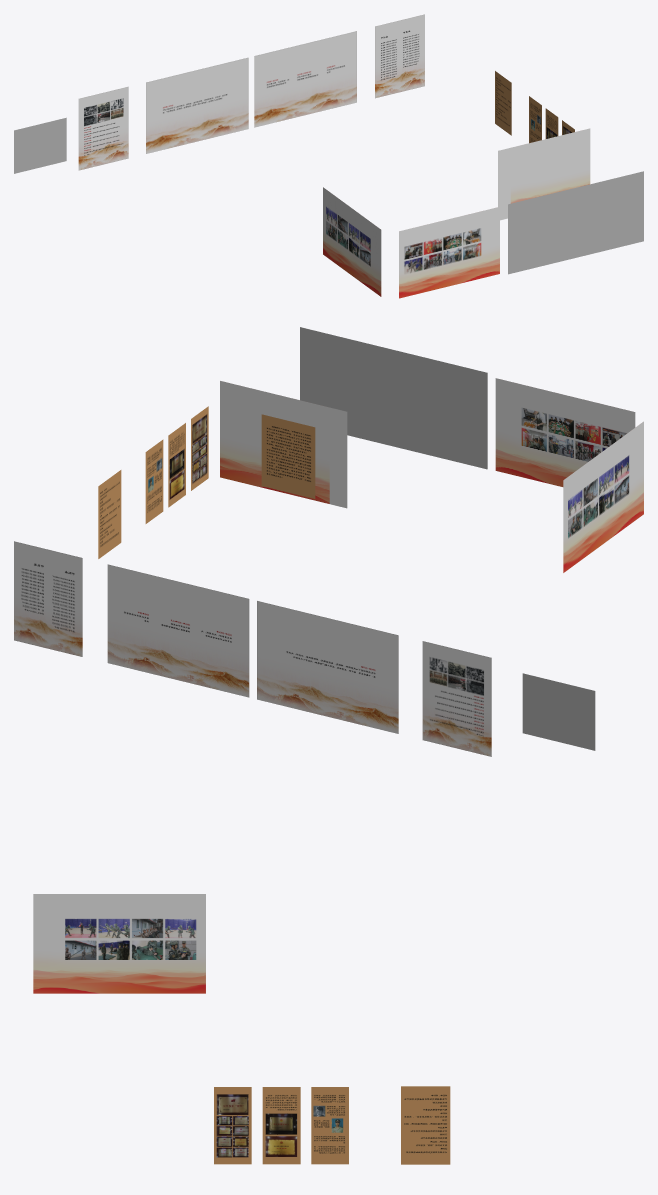
The picture shows the model from 3 angles, top to bottom: view 1: azimuth 30°, elevation 25°; view 2: azimuth 150°, elevation 25°; view 3: azimuth 270°, elevation 25°; orthographic projection. The views are drawn at different scales.
Visible parts, largest first — view 1: 11中队_建设成就, 11中队_发展历程右, 11中队_发展历程左, 11中队_军营文化, 11中队_重大任务, 11中队_官兵风采, 11中队_历史沿革, 11中队_历任主官, 11中队_前言, 11中队_集体荣誉, 11中队_个人荣誉左; view 2: 11中队_建设成就, 11中队_发展历程右, 11中队_发展历程左, 11中队_军营文化, 11中队_重大任务, 11中队_官兵风采, 11中队_历史沿革, 11中队_历任主官, 11中队_前言, 11中队_未来寄语, 11中队_集体荣誉, 11中队_个人荣誉左 (+2 smaller); view 3: 11中队_官兵风采, 11中队_集体荣誉, 11中队_个人荣誉中, 11中队_个人荣誉右, 11中队_个人荣誉左.
Part boxes in pixels (bbox=[...]): 11中队_建设成就: bbox=[508, 171, 643, 274]; 11中队_发展历程右: bbox=[254, 31, 356, 127]; 11中队_发展历程左: bbox=[146, 57, 248, 153]; 11中队_军营文化: bbox=[399, 207, 499, 298]; 11中队_重大任务: bbox=[498, 128, 590, 220]; 11中队_官兵风采: bbox=[323, 187, 381, 296]; 11中队_历史沿革: bbox=[78, 86, 128, 170]; 11中队_历任主官: bbox=[375, 14, 424, 98]; 11中队_前言: bbox=[14, 117, 66, 173]; 11中队_集体荣誉: bbox=[495, 71, 511, 135]; 11中队_个人荣誉左: bbox=[529, 96, 541, 143]; 11中队_建设成就: bbox=[300, 327, 487, 469]; 11中队_发展历程右: bbox=[107, 564, 249, 697]; 11中队_发展历程左: bbox=[257, 601, 398, 733]; 11中队_军营文化: bbox=[495, 378, 635, 486]; 11中队_重大任务: bbox=[220, 381, 347, 508]; 11中队_官兵风采: bbox=[563, 421, 643, 572]; 11中队_历史沿革: bbox=[422, 641, 491, 756]; 11中队_历任主官: bbox=[14, 541, 82, 656]; 11中队_前言: bbox=[522, 673, 595, 750]; 11中队_未来寄语: bbox=[261, 414, 315, 498]; 11中队_集体荣誉: bbox=[98, 470, 121, 558]; 11中队_个人荣誉左: bbox=[145, 439, 163, 523]; 11中队_官兵风采: bbox=[33, 894, 205, 993]; 11中队_集体荣誉: bbox=[401, 1086, 450, 1164]; 11中队_个人荣誉中: bbox=[262, 1087, 300, 1164]; 11中队_个人荣誉右: bbox=[214, 1087, 251, 1164]; 11中队_个人荣誉左: bbox=[311, 1087, 348, 1164].
Size of the model in its own units: 1325 by 216 by 1154.
